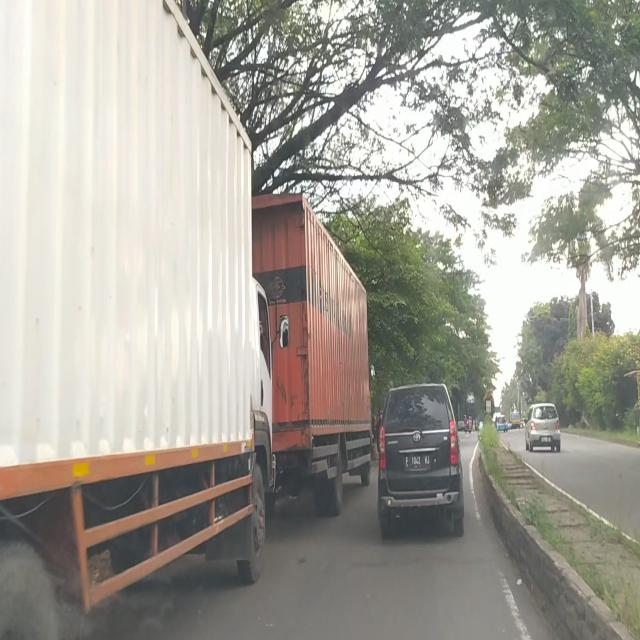Sewer Cover: (359, 554, 498, 567)
